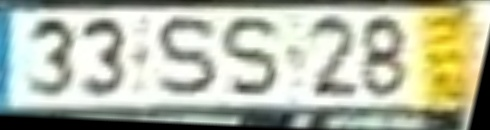2: (303, 13, 361, 101)
3: (21, 17, 82, 102), (78, 14, 134, 102)
8: (359, 13, 411, 100)
S: (153, 13, 223, 101), (220, 13, 288, 102)
